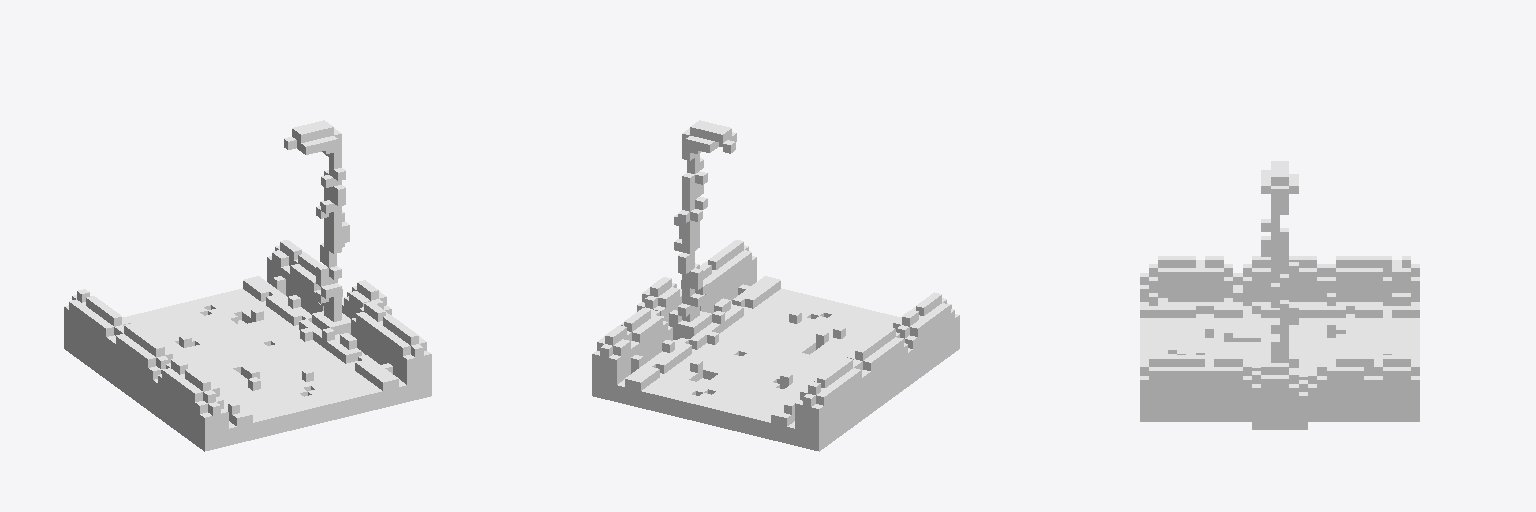
The model's file is MAQUETTE-1.obj.
The picture shows the model from 3 angles: view 1: azimuth 30°, elevation 25°; view 2: azimuth 150°, elevation 25°; view 3: azimuth 270°, elevation 25°; orthographic projection.
Parts seen in each view (by area): view 1: object 1; view 2: object 1; view 3: object 1.
Boxes of the visible parts, x1=… form: object 1: x1=64, y1=120, x2=431, y2=451; object 1: x1=592, y1=120, x2=959, y2=451; object 1: x1=1140, y1=161, x2=1419, y2=429.
Size of the model in its own units: 3 by 2.7 by 3.